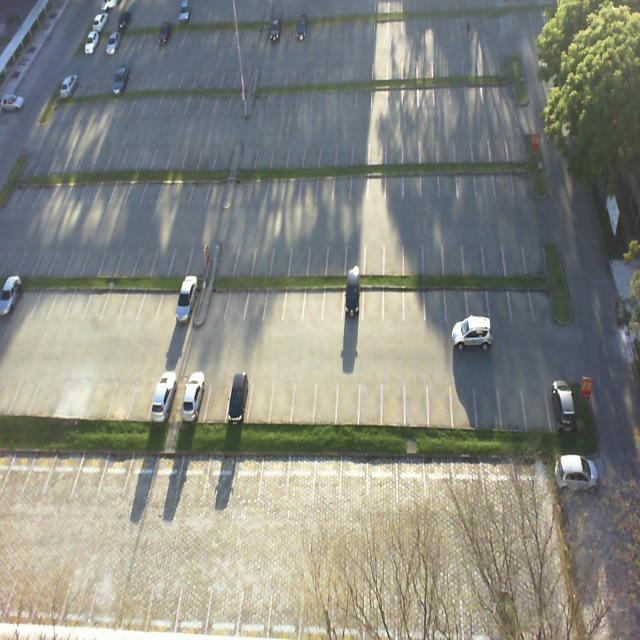space-empty: (94, 445, 132, 502), (123, 442, 158, 502), (71, 446, 106, 501), (148, 444, 182, 500), (43, 445, 78, 499), (231, 451, 264, 504), (499, 373, 528, 432), (204, 448, 238, 498), (175, 445, 208, 496), (312, 451, 342, 507), (21, 446, 55, 494), (259, 448, 290, 500), (523, 371, 550, 428), (64, 367, 93, 420), (476, 372, 502, 429), (117, 271, 146, 322), (222, 272, 249, 326), (83, 371, 112, 421), (288, 449, 314, 504), (106, 371, 134, 422), (452, 374, 479, 426), (136, 267, 162, 320), (428, 375, 454, 428), (127, 370, 154, 420), (312, 372, 336, 428), (268, 373, 294, 424), (154, 274, 180, 324), (203, 370, 229, 420), (246, 372, 272, 422), (262, 270, 286, 324), (530, 270, 557, 318), (359, 371, 382, 426), (382, 371, 405, 424), (101, 270, 125, 320), (241, 275, 265, 325), (335, 373, 359, 423), (290, 372, 313, 424), (405, 374, 428, 426), (486, 273, 511, 320), (483, 227, 507, 275), (443, 226, 466, 273), (205, 273, 225, 327), (130, 236, 156, 276), (113, 238, 140, 276), (509, 276, 532, 320), (303, 276, 324, 324), (155, 165, 178, 208), (525, 229, 548, 272), (444, 277, 467, 320), (467, 275, 488, 322), (148, 237, 172, 278), (188, 164, 211, 206), (363, 276, 384, 322), (282, 276, 302, 324), (167, 238, 192, 276), (505, 227, 526, 272), (322, 277, 343, 322), (425, 229, 445, 276), (188, 239, 212, 278), (139, 165, 162, 205), (511, 156, 534, 196), (287, 234, 310, 274), (404, 226, 424, 272), (404, 274, 424, 320), (426, 276, 446, 322), (172, 165, 193, 208), (382, 231, 404, 272), (229, 238, 252, 277), (204, 166, 226, 206), (464, 228, 484, 272), (231, 164, 252, 205), (213, 239, 236, 276), (384, 276, 402, 322), (307, 234, 328, 273), (345, 231, 364, 274), (268, 236, 290, 272), (251, 235, 272, 272), (324, 235, 344, 273), (364, 235, 383, 273), (458, 162, 478, 198), (478, 158, 496, 198), (299, 166, 317, 205), (494, 160, 514, 195), (267, 166, 284, 207), (283, 164, 300, 205), (250, 166, 268, 204), (368, 162, 386, 200), (422, 163, 440, 198), (333, 165, 350, 202), (388, 162, 404, 200), (403, 163, 420, 198), (440, 162, 458, 195), (316, 166, 332, 200), (351, 164, 367, 198)
space-occupied: (545, 370, 576, 426), (223, 370, 254, 424), (148, 374, 175, 422), (174, 272, 198, 324), (181, 373, 206, 418), (345, 275, 362, 320)
